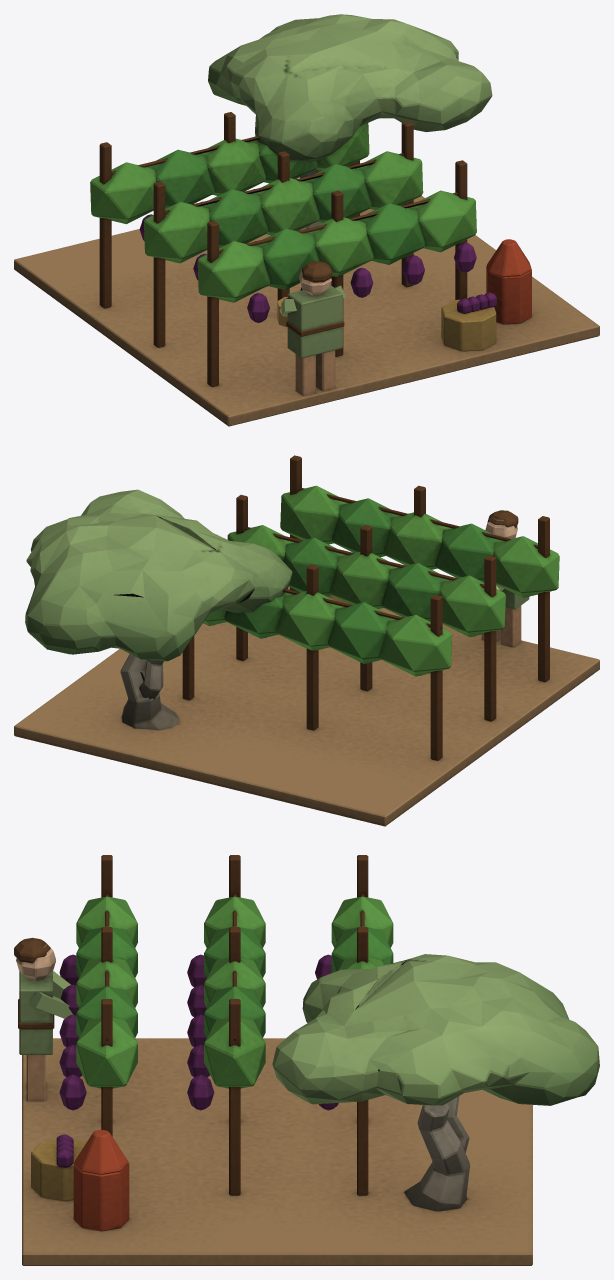
File: winnica.glb
3 views of the same model, one above another, from view 1: azimuth 30°, elevation 25°; view 2: azimuth 150°, elevation 25°; view 3: azimuth 270°, elevation 25° (orthographic). The views are drawn at different scales.
Visible parts, largest first — view 1: winnica; view 2: winnica; view 3: winnica, anim_mlot_winiarz.
Boxes of the visible parts, bbox=[...] form: winnica: bbox=[14, 14, 599, 426]; winnica: bbox=[14, 455, 599, 826]; winnica: bbox=[14, 855, 599, 1265]; anim_mlot_winiarz: bbox=[30, 971, 72, 1018].
Size of the model in its own units: 1.91 by 0.9621 by 2.06.
Materials: 5 (1 with a texture image).
